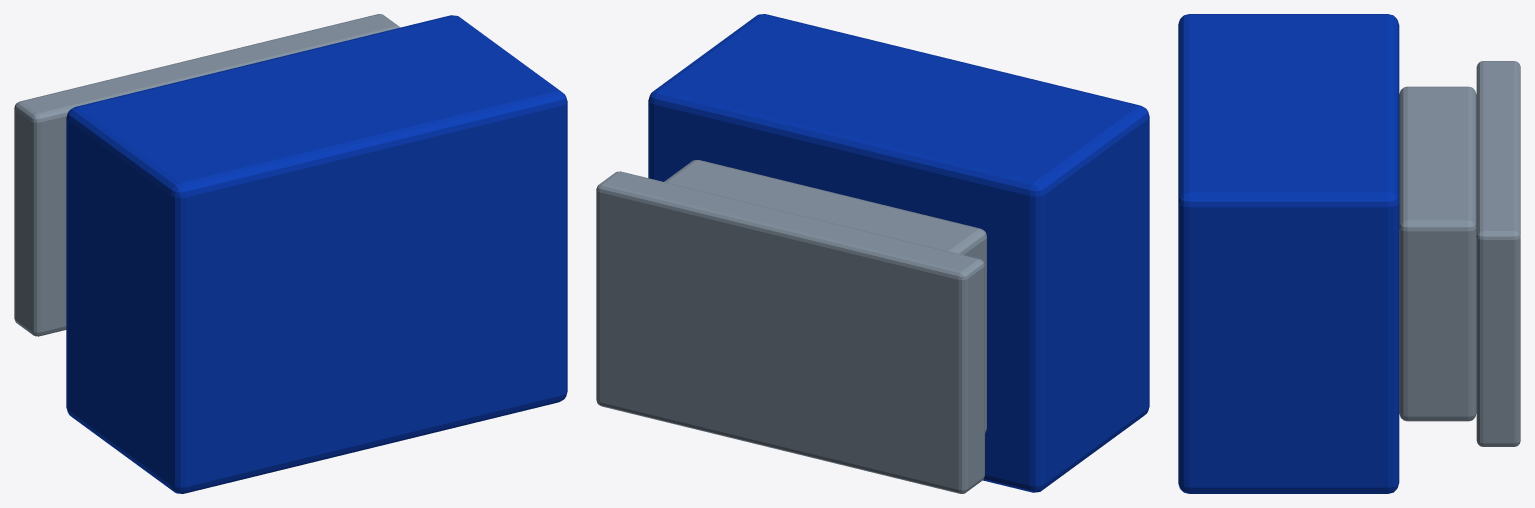
File: rail_carriage.obj
3 renders of one model, left to right at view 1: azimuth 30°, elevation 25°; view 2: azimuth 150°, elevation 25°; view 3: azimuth 270°, elevation 25°, orthographic. The views are drawn at different scales.
Visible parts, largest first — view 1: Payload_Placeholder.001, Carriage_Base.001; view 2: Payload_Placeholder.001, Carriage_Base.001, Carriage_Top_Plate.001; view 3: Payload_Placeholder.001, Carriage_Top_Plate.001, Carriage_Base.001.
Part boxes in pixels (x1,y1,x2,y2): Payload_Placeholder.001: (66,15,567,493); Carriage_Base.001: (14,14,400,336); Payload_Placeholder.001: (648,14,1149,492); Carriage_Base.001: (596,171,984,493); Carriage_Top_Plate.001: (664,160,986,432); Payload_Placeholder.001: (1178,14,1399,493); Carriage_Top_Plate.001: (1399,86,1476,421); Carriage_Base.001: (1476,61,1520,446).
Bounding box in the file's own units: 0.08 × 0.06 × 0.062.
